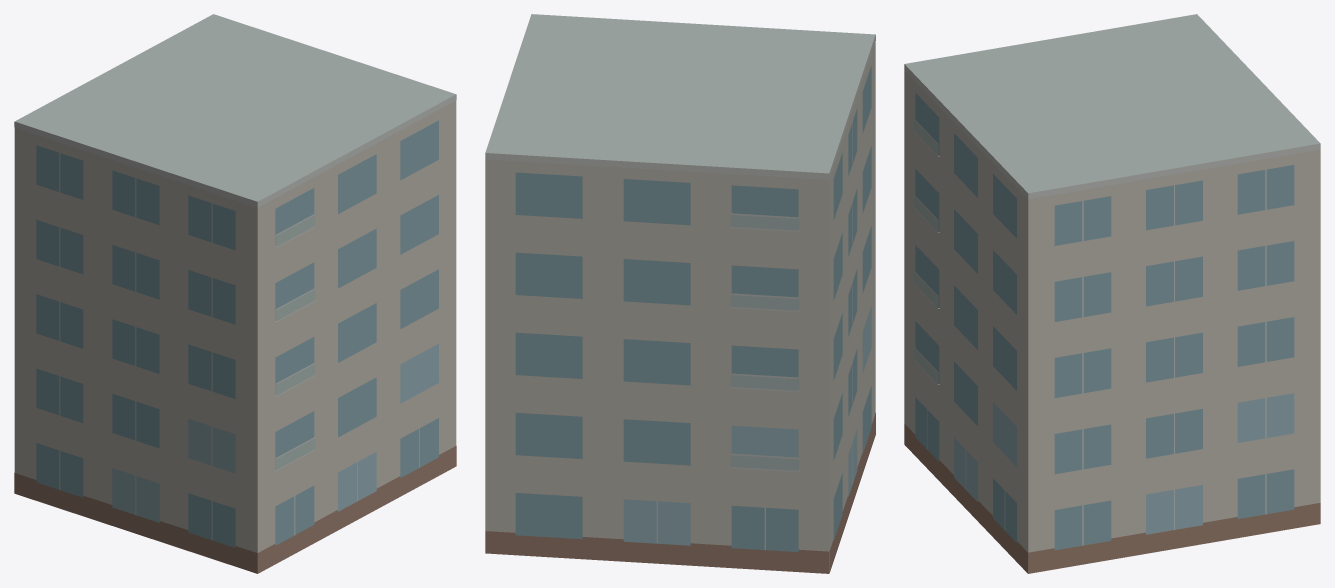
File: residential-ed55a38f-6790-4096-aa66-6a665bbc9b1c.glb
The picture shows the model from 3 angles, left to right: view 1: azimuth 30°, elevation 25°; view 2: azimuth 150°, elevation 25°; view 3: azimuth 270°, elevation 25°; orthographic projection. The views are drawn at different scales.
Parts seen in each view (by area): view 1: residential-ed55a38f-6790-4096-aa66-6a665bbc9b1c.tmp; view 2: residential-ed55a38f-6790-4096-aa66-6a665bbc9b1c.tmp; view 3: residential-ed55a38f-6790-4096-aa66-6a665bbc9b1c.tmp.
Boxes of the visible parts, x1,y1,x2,y2 form: residential-ed55a38f-6790-4096-aa66-6a665bbc9b1c.tmp: (14, 14, 456, 573); residential-ed55a38f-6790-4096-aa66-6a665bbc9b1c.tmp: (485, 14, 875, 573); residential-ed55a38f-6790-4096-aa66-6a665bbc9b1c.tmp: (904, 14, 1320, 573).
Size of the model in its own units: 15.42 by 15.25 by 15.13.
